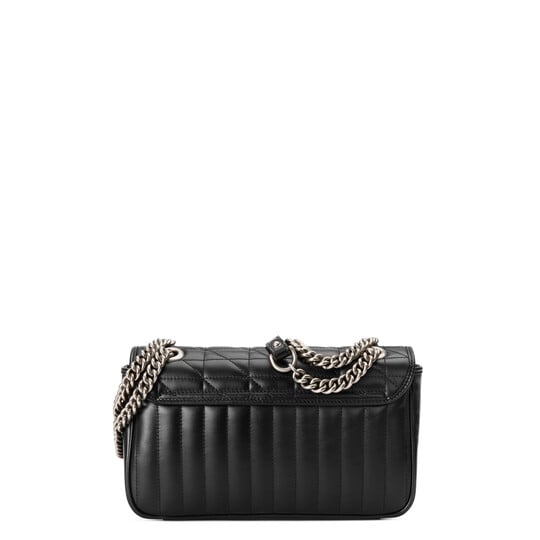Gucci: (101, 314, 429, 515)
